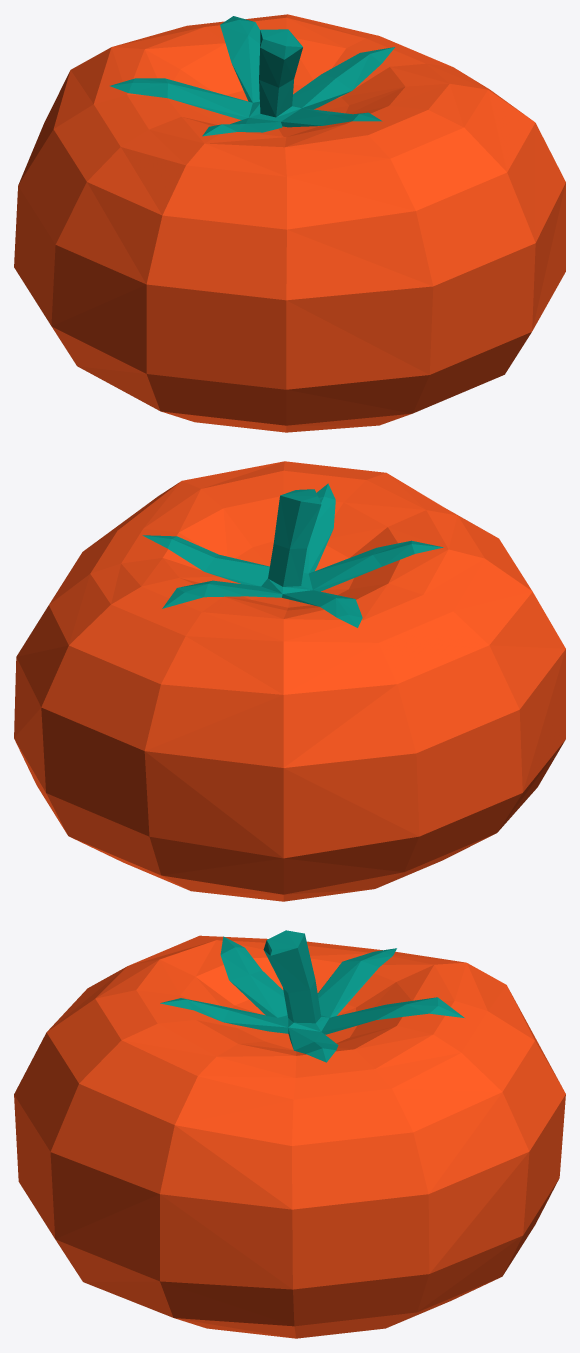
Rendered from Tomato.glb.
3 views of the same model, one above another, from view 1: azimuth 30°, elevation 25°; view 2: azimuth 150°, elevation 25°; view 3: azimuth 270°, elevation 25° (orthographic). The views are drawn at different scales.
Visible parts, largest first — view 1: group99467727, group519167705; view 2: group99467727, group519167705; view 3: group99467727, group519167705.
Boxes of the visible parts, bbox=[...] form: group99467727: bbox=[14, 14, 565, 432]; group519167705: bbox=[110, 16, 394, 136]; group99467727: bbox=[14, 461, 565, 901]; group519167705: bbox=[142, 483, 443, 627]; group99467727: bbox=[14, 935, 565, 1338]; group519167705: bbox=[160, 930, 464, 1062].
Bounding box in the file's own units: 1.64 × 1.16 × 1.72.
